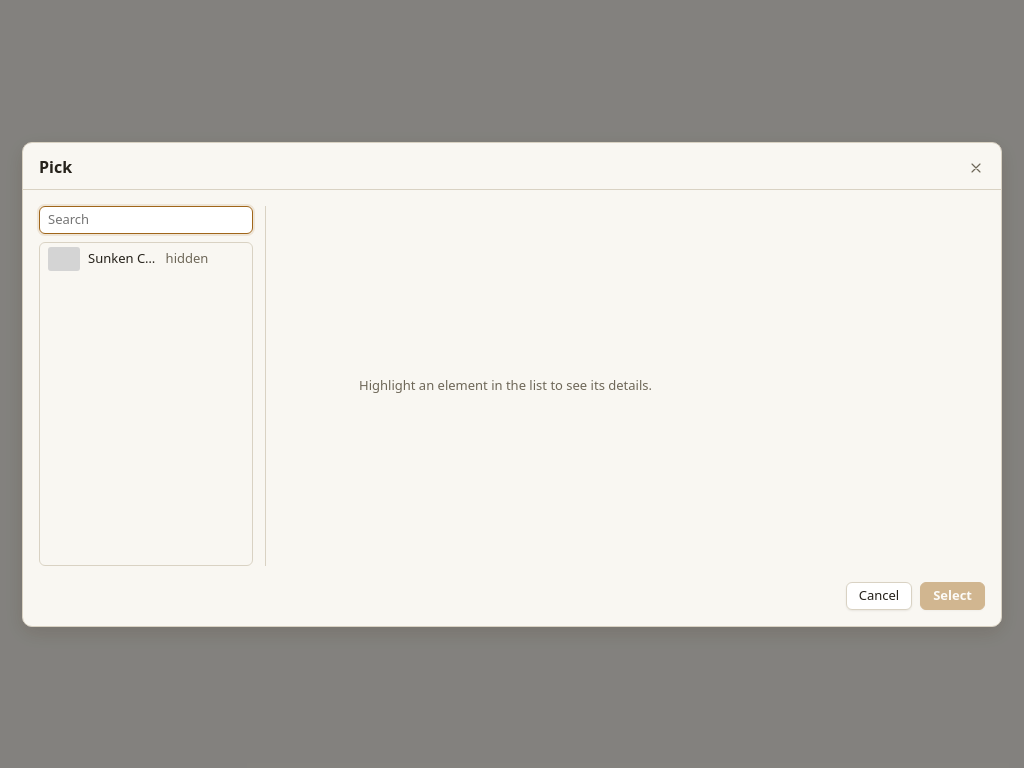
Scenario: ElementPicker details › shows a map with its background, size, grid and visibility
Click the option "Sunken Crypt hidden" at (128, 258), box [48,246,208,270]
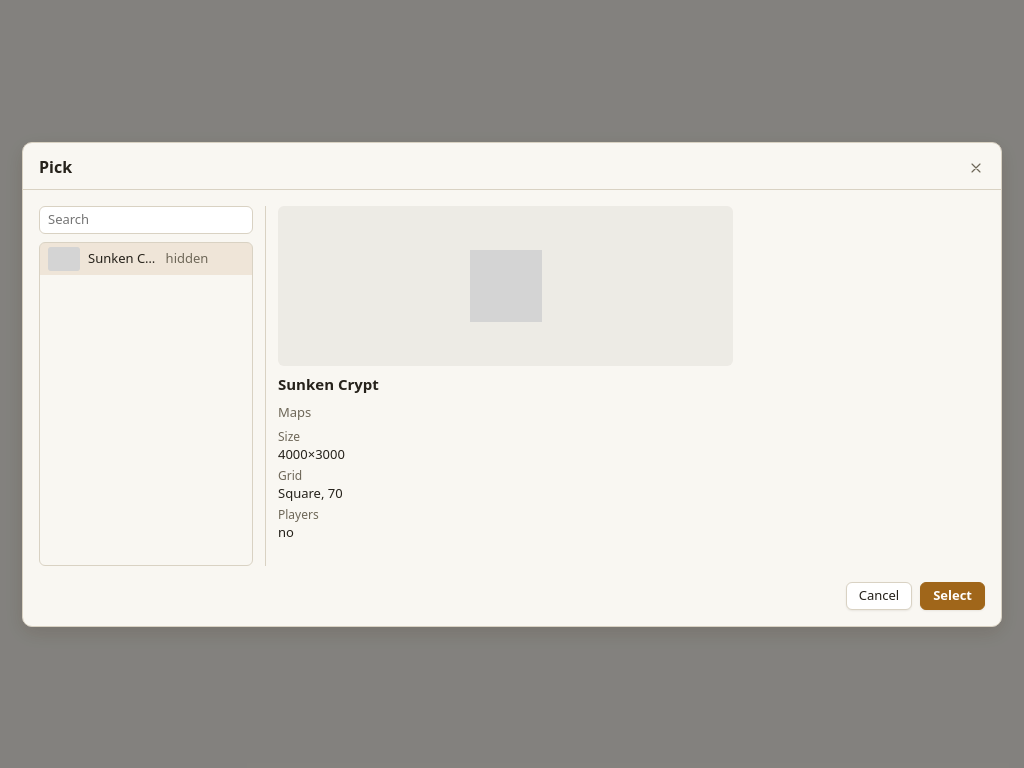
Expected: the heading "Sunken Crypt" is shown, [278,374,379,394]
